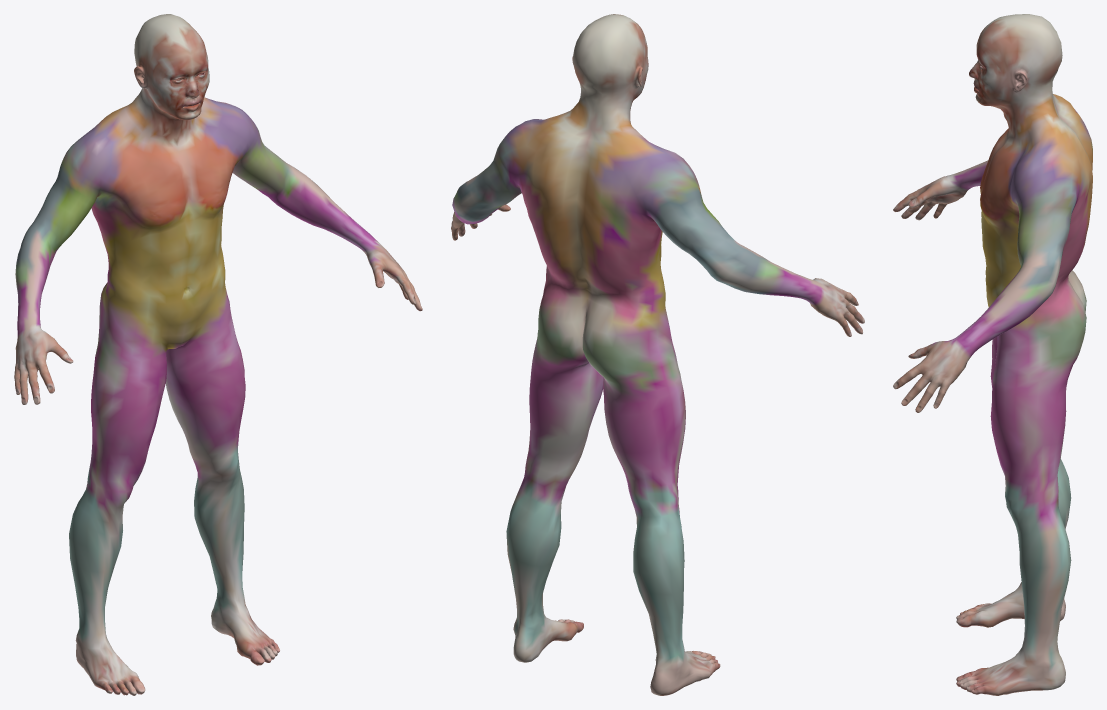
Rendered from muscles.glb.
3 renders of one model, left to right at view 1: azimuth 30°, elevation 25°; view 2: azimuth 150°, elevation 25°; view 3: azimuth 270°, elevation 25°, orthographic.
Visible parts, largest first — view 1: muscle_0.ply; view 2: muscle_0.ply; view 3: muscle_0.ply.
Boxes of the visible parts, x1,y1,x2,y2 form: muscle_0.ply: (14,14,422,695); muscle_0.ply: (451,14,864,695); muscle_0.ply: (893,14,1092,695).
Size of the model in its own units: 12.3 by 18.86 by 5.35.
